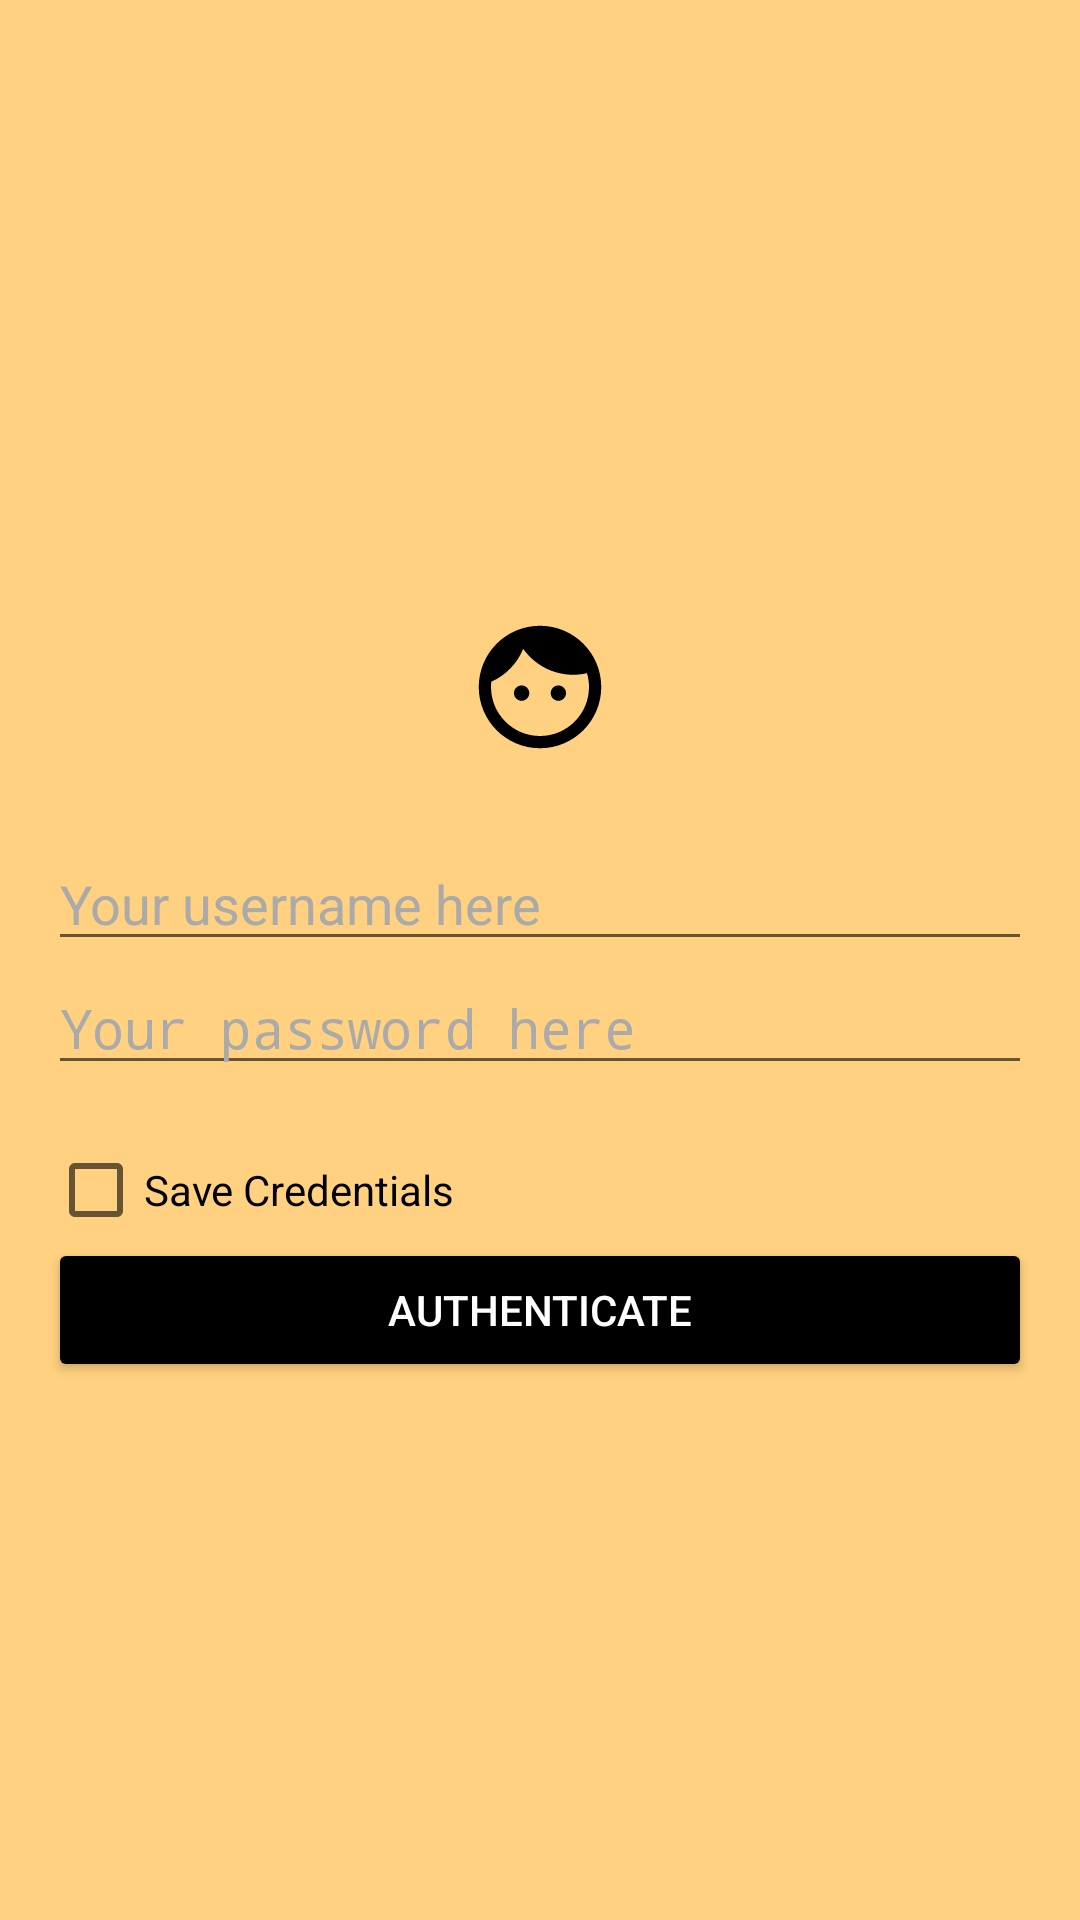

Icons on this 1080 x 1920 Android screen, each with its box as (x1, y1, x2, y2):
face: (478, 625, 602, 749)
